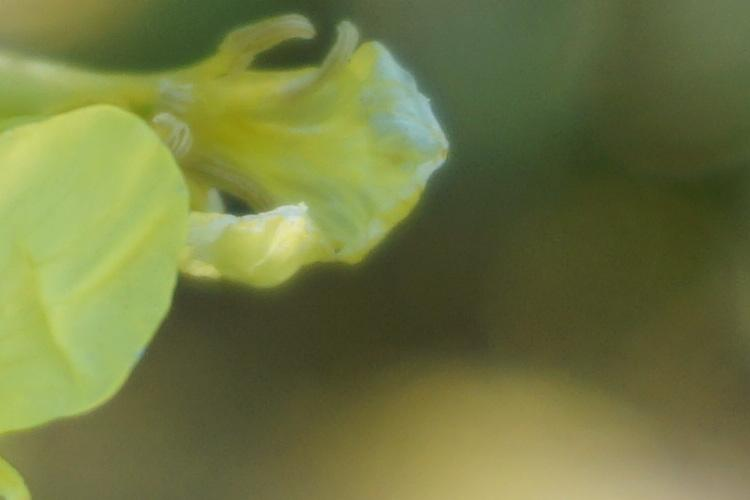yellow: (39, 26, 461, 292), (1, 111, 173, 433)
